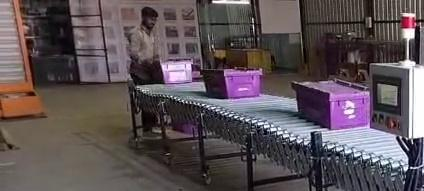box: (292, 80, 370, 128), (201, 69, 261, 98), (160, 60, 192, 84)
